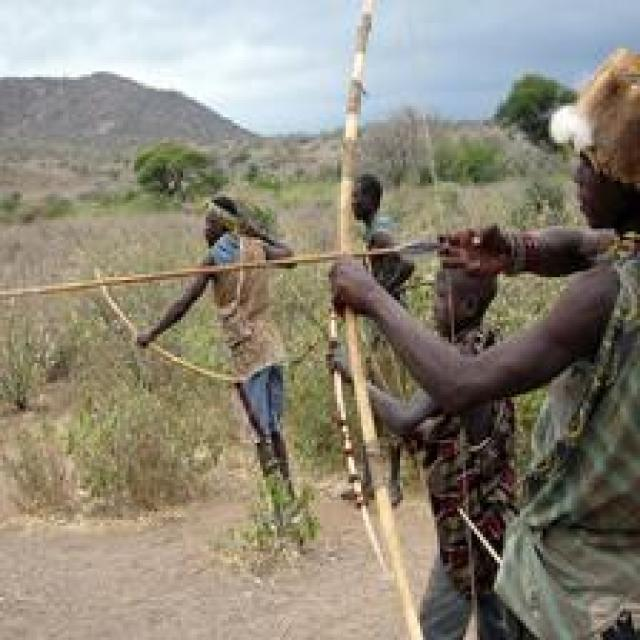X-Bow: (316, 11, 416, 640), (78, 263, 235, 411)
